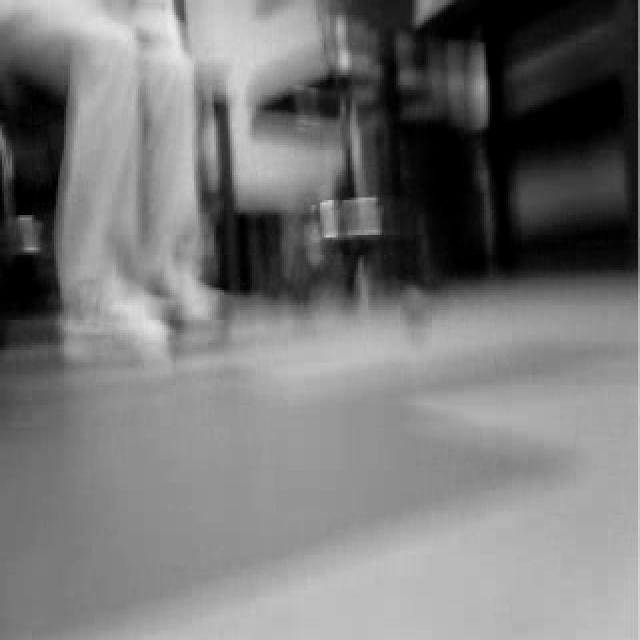ping-pong-ball: (132, 320, 176, 378), (394, 284, 438, 340)
